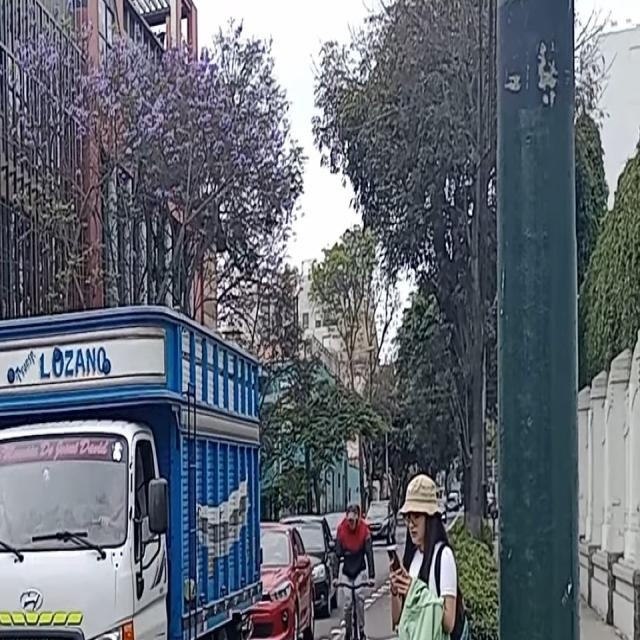bicycle: (333, 575, 373, 640)
car: (250, 521, 315, 640), (280, 515, 337, 609), (363, 501, 396, 543)
truck: (0, 309, 258, 640)
